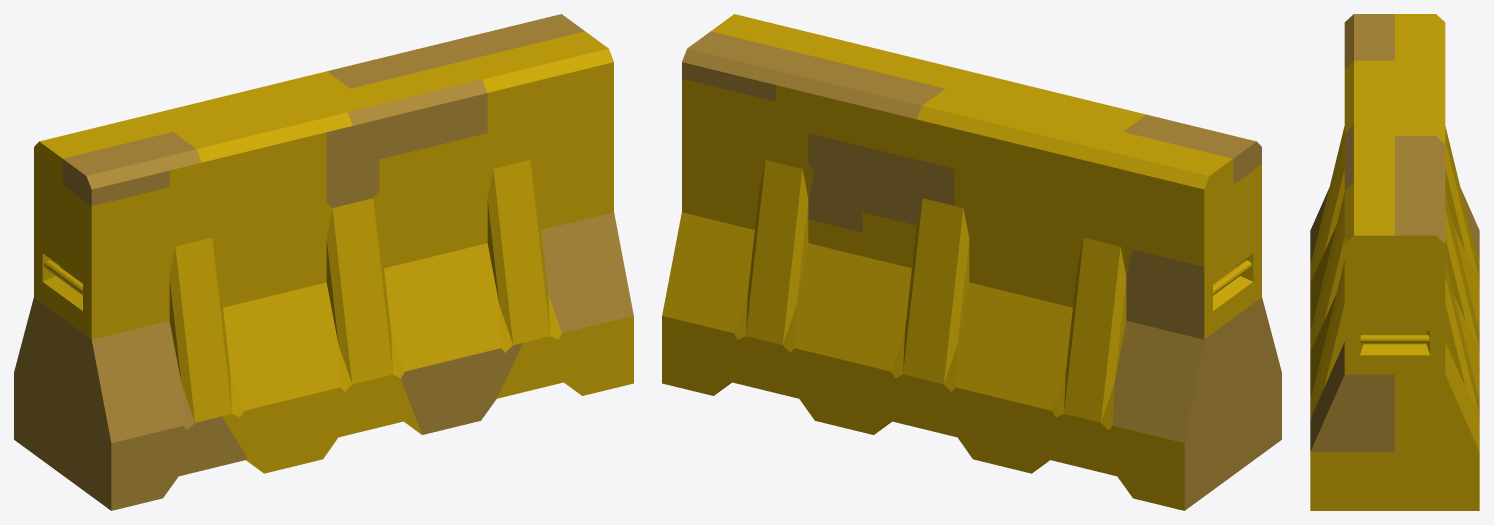
File: prop-plastic-barrier-B-e2wxv-.glb
The picture shows the model from 3 angles, left to right: view 1: azimuth 30°, elevation 25°; view 2: azimuth 150°, elevation 25°; view 3: azimuth 270°, elevation 25°; orthographic projection. The views are drawn at different scales.
Parts seen in each view (by area): view 1: plastic-barrier; view 2: plastic-barrier; view 3: plastic-barrier.
Boxes of the visible parts, x1,y1,x2,y2 form: plastic-barrier: [14, 14, 633, 510]; plastic-barrier: [662, 14, 1281, 510]; plastic-barrier: [1310, 14, 1479, 510].
Size of the model in its own units: 1.04 by 0.5995 by 0.3339.
